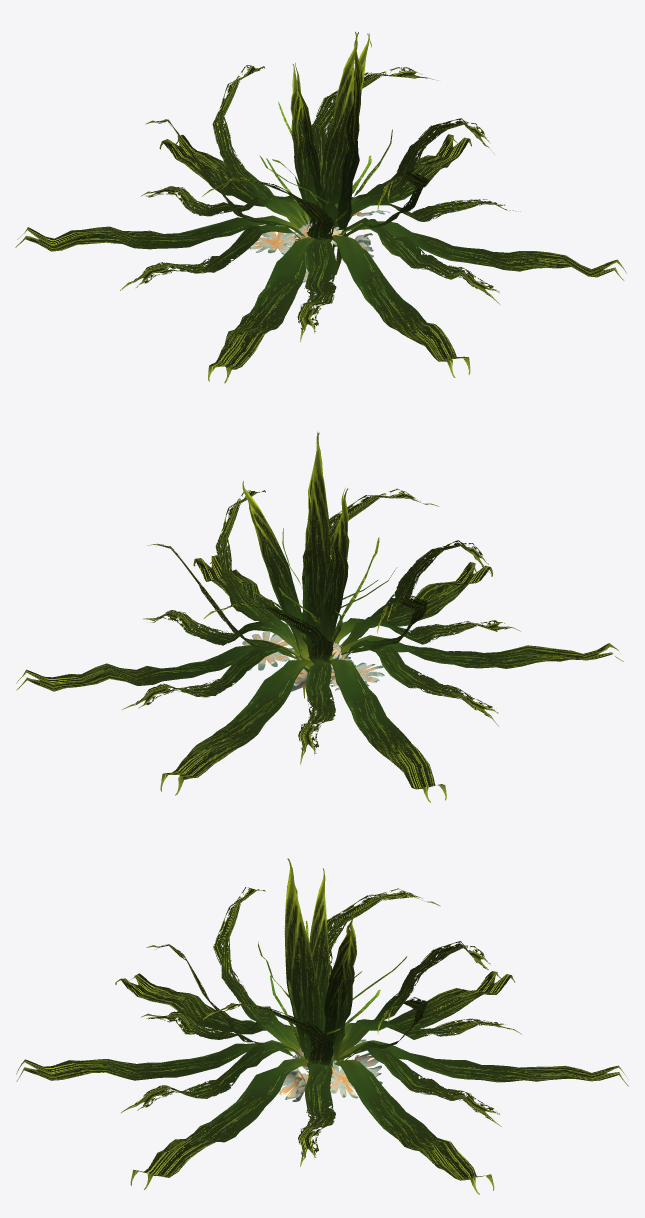
3 views of the same model, one above another, from view 1: azimuth 30°, elevation 25°; view 2: azimuth 150°, elevation 25°; view 3: azimuth 270°, elevation 25° (orthographic).
Parts seen in each view (by area): view 1: aa03.001; view 2: aa03.001; view 3: aa03.001.
Boxes of the visible parts, <box> form: aa03.001: <box>15,31,626,383</box>; aa03.001: <box>16,431,623,802</box>; aa03.001: <box>16,858,628,1194</box>.
Bounding box in the file's own units: 1203 × 659 × 1376.
